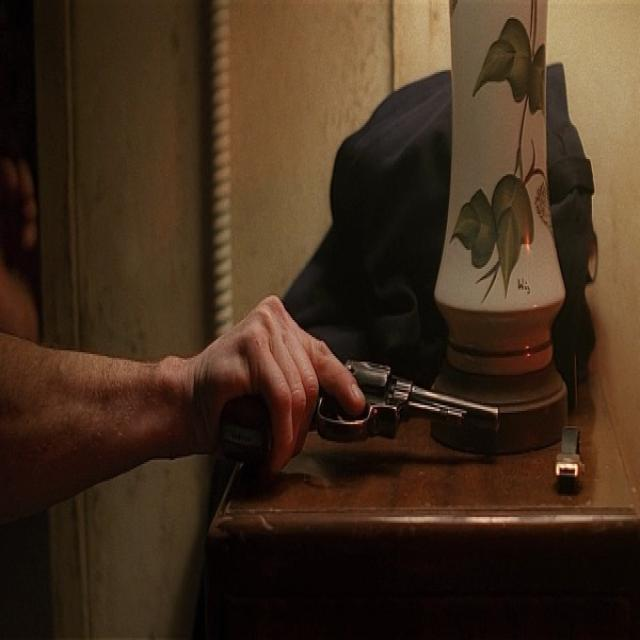weapons: (268, 309, 508, 478)
